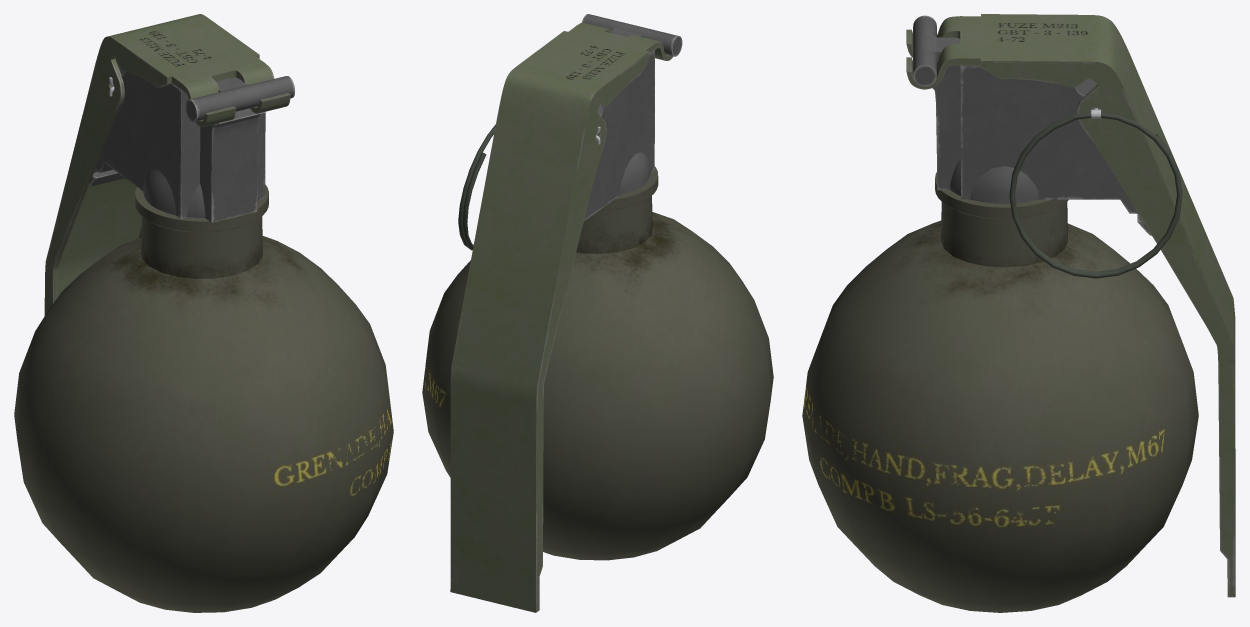
File: frag_tp.glb
3 views of the same model, side by side, from view 1: azimuth 30°, elevation 25°; view 2: azimuth 150°, elevation 25°; view 3: azimuth 270°, elevation 25° (orthographic). The views are drawn at different scales.
Visible parts, largest first — view 1: Body_lowTris, SafetyLever_lowTris, Fuze_lowTris; view 2: Body_lowTris, SafetyLever_lowTris, Fuze_lowTris, SafetyRing_lowTris; view 3: Body_lowTris, SafetyLever_lowTris, Fuze_lowTris, SafetyRing_lowTris.
Part boxes in pixels (x1=…): Body_lowTris: x1=14, y1=184, x2=393, y2=612; SafetyLever_lowTris: x1=44, y1=14, x2=290, y2=315; Fuze_lowTris: x1=88, y1=58, x2=294, y2=222; Body_lowTris: x1=422, y1=166, x2=773, y2=560; SafetyLever_lowTris: x1=450, y1=22, x2=673, y2=612; Fuze_lowTris: x1=582, y1=14, x2=682, y2=221; SafetyRing_lowTris: x1=458, y1=124, x2=495, y2=250; Body_lowTris: x1=802, y1=172, x2=1198, y2=612; SafetyLever_lowTris: x1=906, y1=14, x2=1235, y2=597; Fuze_lowTris: x1=913, y1=15, x2=1151, y2=235; SafetyRing_lowTris: x1=1009, y1=112, x2=1182, y2=278.
Bounding box in the file's own units: 0.0614 × 0.095 × 0.0671.
Materials: 1 (1 with a texture image).
